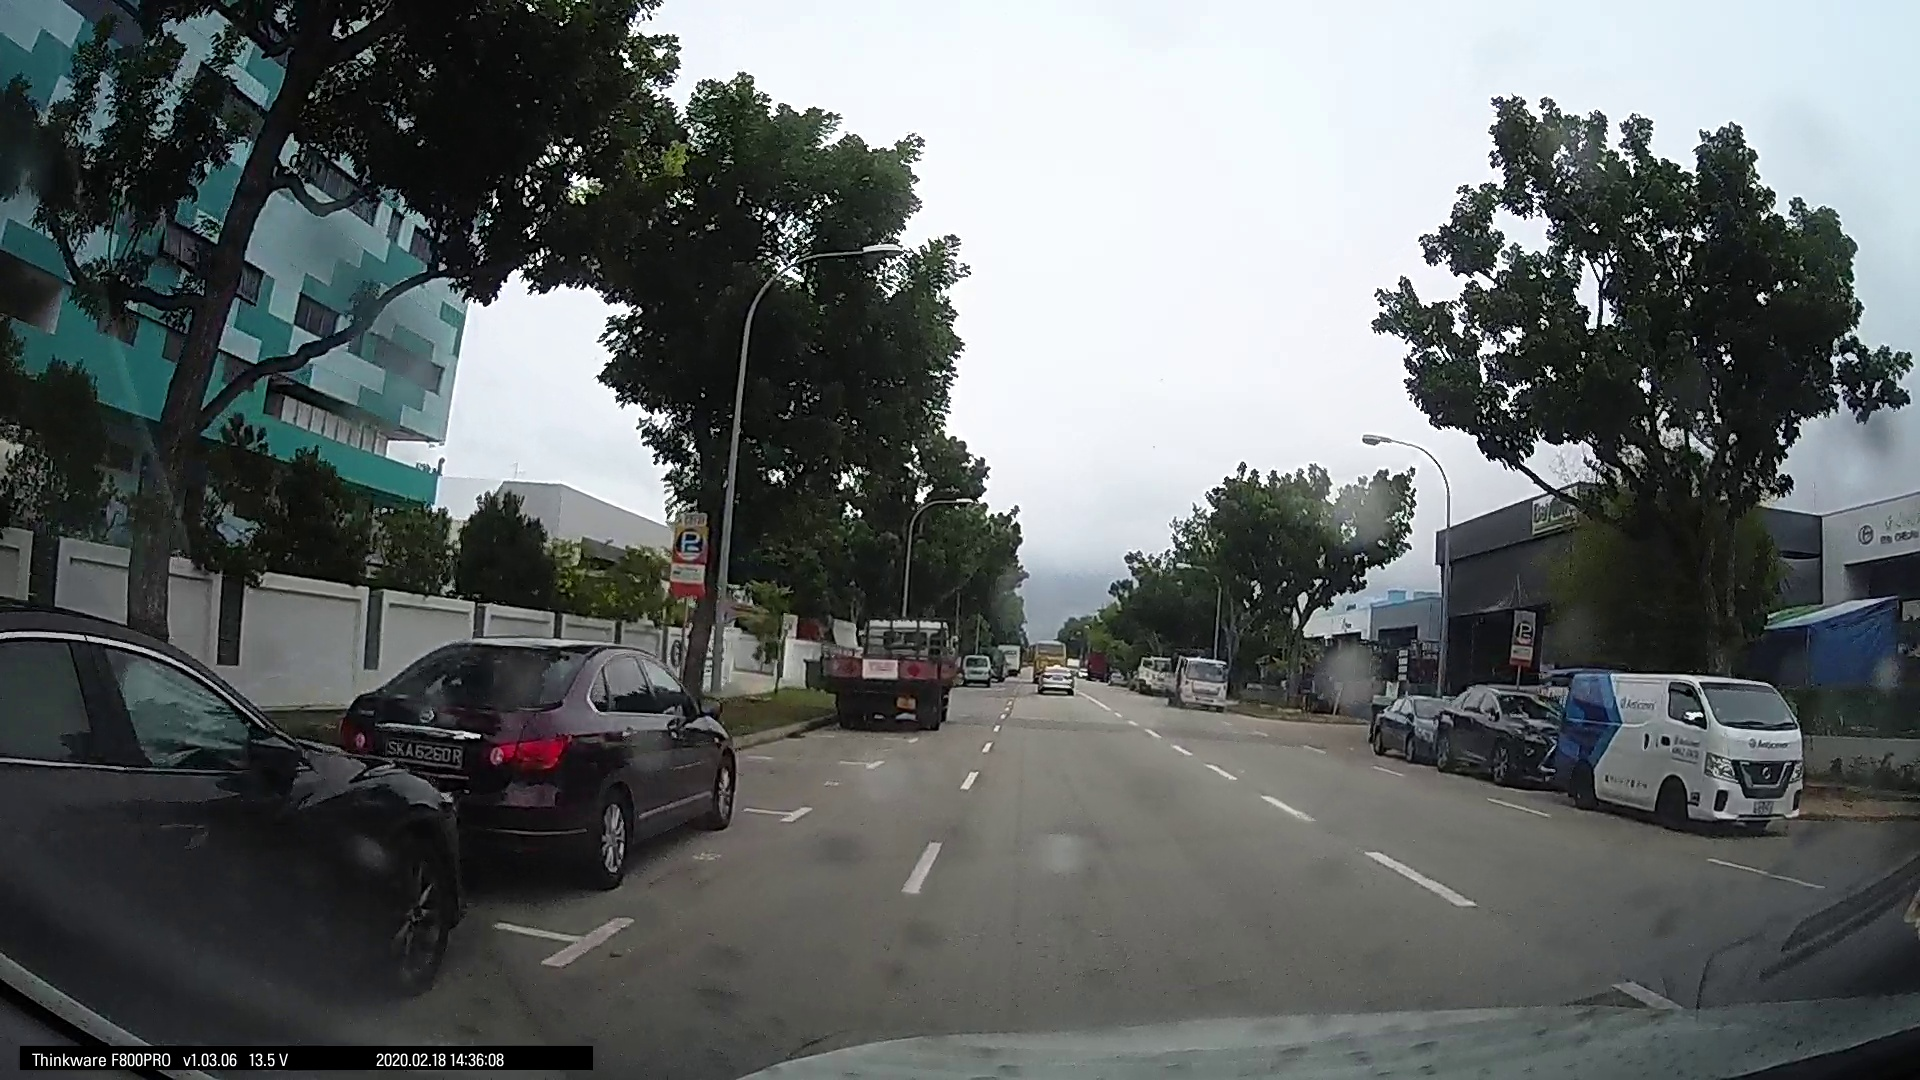Heavy Vehicle: (829, 613, 955, 727)
Light Vehicle: (7, 620, 477, 1002), (342, 624, 746, 882), (1552, 663, 1807, 835), (1433, 682, 1552, 785), (1366, 684, 1445, 764), (1162, 650, 1228, 708), (1031, 651, 1075, 694), (957, 647, 998, 686)
